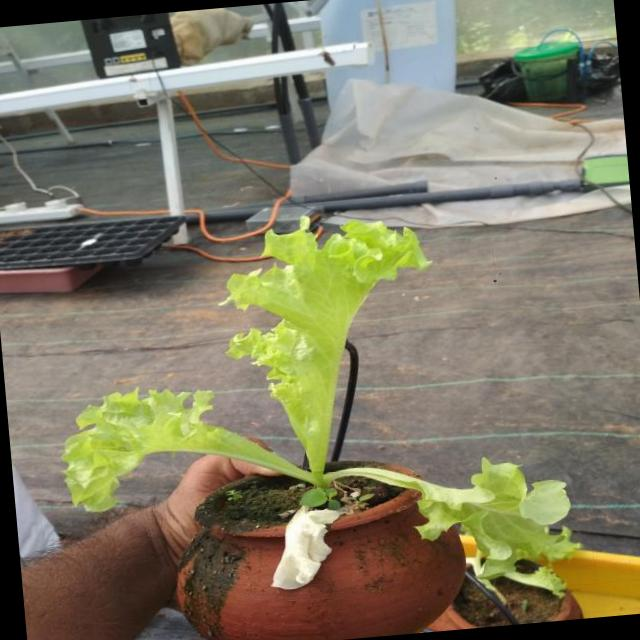Lettuce-Not-Ready-to-Harvest: (65, 221, 571, 591)
